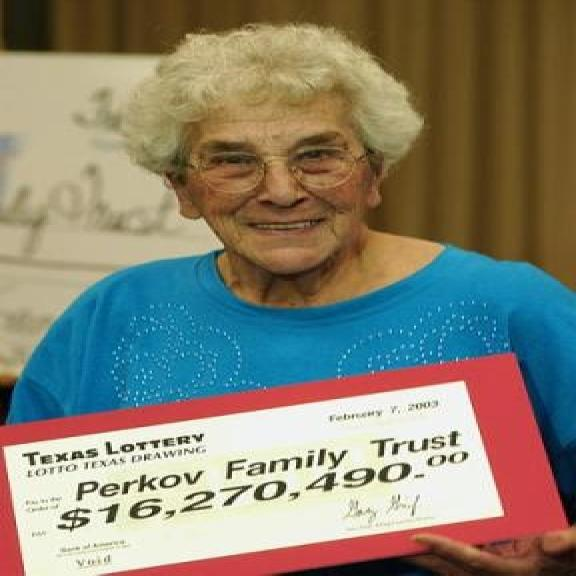face: (141, 96, 393, 278)
